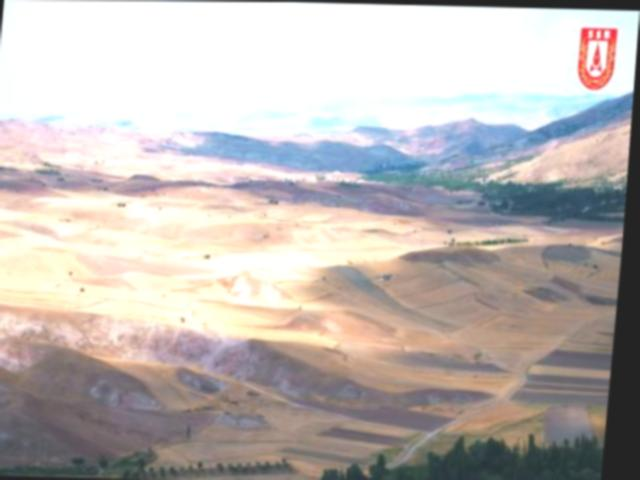uav: (379, 270, 404, 283)
